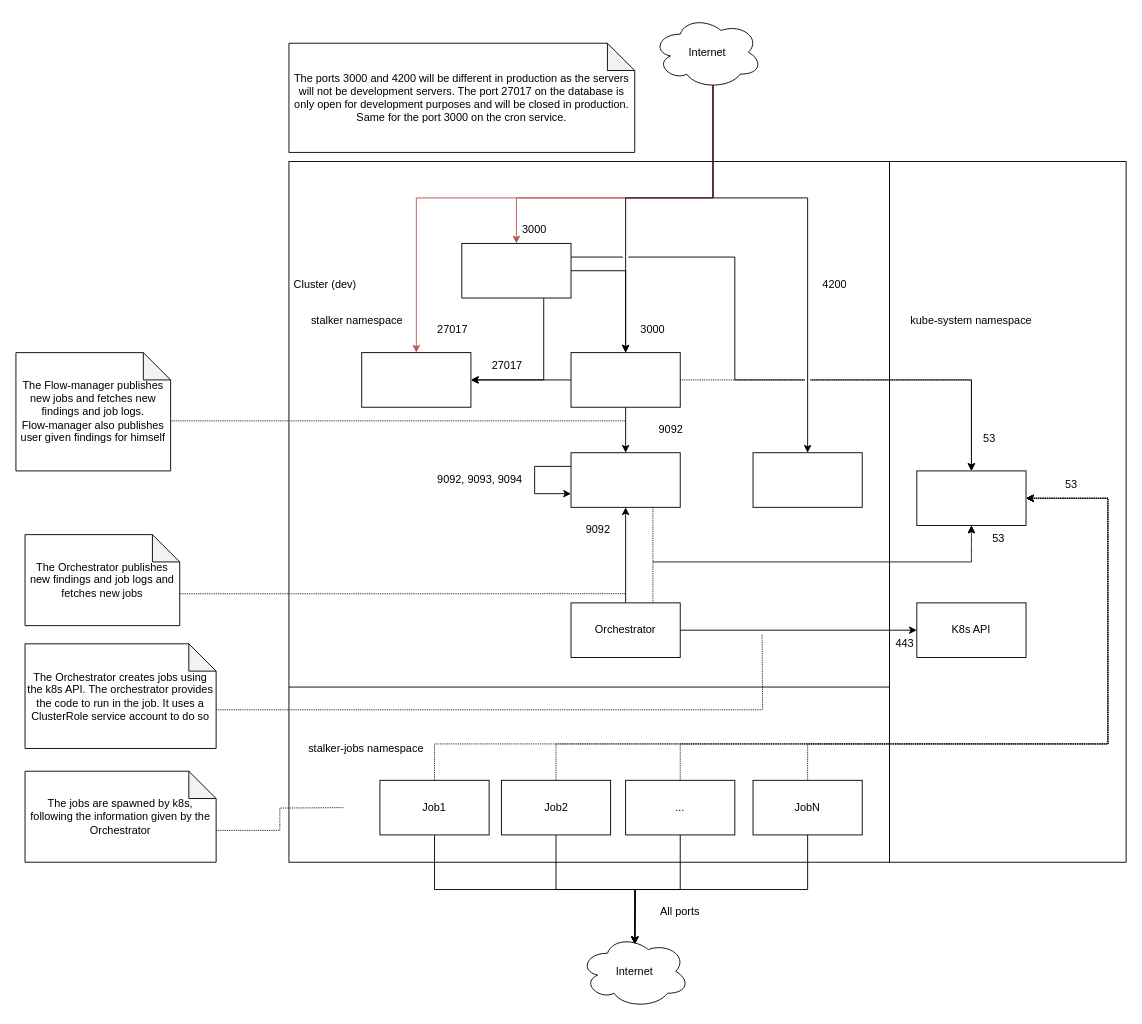
The diagram is 1142 pixels wide and 1024 high, and some of its shapes have lost their labels. The centre of each missing label's shape, as x and y in pixels:
Cron Service: point (516, 270)
Database Mongo: point (416, 379)
flow-manager: point (625, 379)
K8s DNS: point (971, 498)
Kafka (KRaft): point (625, 479)
UI: point (807, 479)
